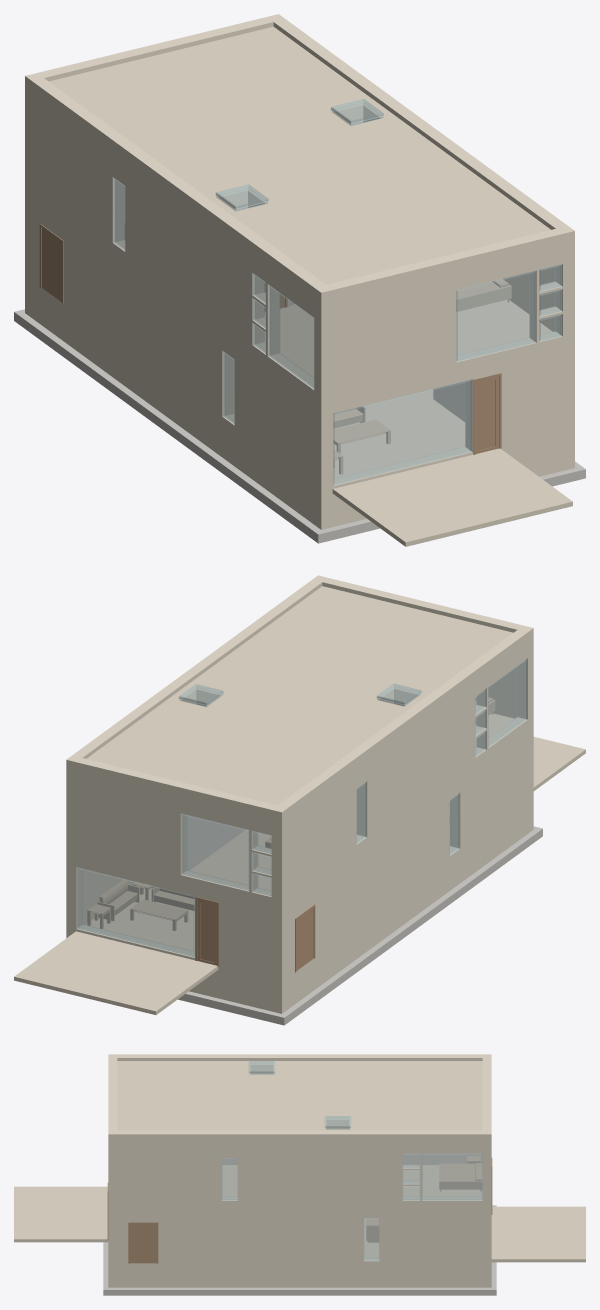
File: duplex.glb
3 views of the same model, one above another, from view 1: azimuth 30°, elevation 25°; view 2: azimuth 150°, elevation 25°; view 3: azimuth 270°, elevation 25° (orthographic). The views are drawn at different scales.
Visible parts, largest first — view 1: IfcSlab__3ThA22djr8AQQ9eQMA5s7I__Basic Roof:Live Roof over W, IfcWallStandardCase__2O2Fr$t4X7Zf8NOew3FNhv__Basic Wall:Exte, IfcWallStandardCase__2O2Fr$t4X7Zf8NOew3FLPP__Basic Wall:Exte, IfcWallStandardCase__2O2Fr$t4X7Zf8NOew3FLOH__Basic Wall:Exte, IfcSlab__1CZILmCaHETO8tf3SgGEXu__Floor:150mm Exterior Slab o, IfcWallStandardCase__2O2Fr$t4X7Zf8NOew3FNr2__Basic Wall:Exte, IfcWallStandardCase__2O2Fr$t4X7Zf8NOew3FKE5__Basic Wall:Foun, IfcWindow__1hOSvn6df7F8_7GcBWlRBU__M_Fixed:4835mm x 2420mm:4, IfcWallStandardCase__0jf0rYHfX3RAB3bSIRjmr1__Basic Wall:Exte, IfcSlab__2OBrcmyk58NupXoVOHUtxr__Floor:Finish Floor - Wood:1, IfcWallStandardCase__0jf0rYHfX3RAB3bSIRjmoa__Basic Wall:Exte, IfcWindow__1hOSvn6df7F8_7GcBWlS_W__M_Fixed:2800mm x 2410mm:2 (+19 smaller); view 2: IfcSlab__3ThA22djr8AQQ9eQMA5s7I__Basic Roof:Live Roof over W, IfcWallStandardCase__2O2Fr$t4X7Zf8NOew3FNhv__Basic Wall:Exte, IfcWallStandardCase__2O2Fr$t4X7Zf8NOew3FLPP__Basic Wall:Exte, IfcWallStandardCase__2O2Fr$t4X7Zf8NOew3FLQD__Basic Wall:Exte, IfcWallStandardCase__2O2Fr$t4X7Zf8NOew3FNtn__Basic Wall:Exte, IfcSlab__1CZILmCaHETO8tf3SgGEWh__Floor:150mm Exterior Slab o, IfcWallStandardCase__2O2Fr$t4X7Zf8NOew3FKE5__Basic Wall:Foun, IfcWindow__1hOSvn6df7F8_7GcBWlR72__M_Fixed:4835mm x 2420mm:4, IfcWallStandardCase__0jf0rYHfX3RAB3bSIRjmr1__Basic Wall:Exte, IfcWallStandardCase__0jf0rYHfX3RAB3bSIRjmmy__Basic Wall:Exte, IfcWindow__1hOSvn6df7F8_7GcBWlSXO__M_Fixed:2800mm x 2410mm:2, IfcFooting__0kF45Qs8L9PAM9kmb1lT5t__Wall Foundation:Bearing  (+20 smaller); view 3: IfcSlab__3ThA22djr8AQQ9eQMA5s7I__Basic Roof:Live Roof over W, IfcWallStandardCase__2O2Fr$t4X7Zf8NOew3FNqI__Basic Wall:Exte, IfcWallStandardCase__2O2Fr$t4X7Zf8NOew3FLR9__Basic Wall:Exte, IfcWallStandardCase__2O2Fr$t4X7Zf8NOew3FK9N__Basic Wall:Foun, IfcWallStandardCase__0jf0rYHfX3RAB3bSIRjmpw__Basic Wall:Exte, IfcSlab__1CZILmCaHETO8tf3SgGEWh__Floor:150mm Exterior Slab o, IfcSlab__1CZILmCaHETO8tf3SgGEXu__Floor:150mm Exterior Slab o, IfcFooting__0kF45Qs8L9PAM9kmb1lT5d__Wall Foundation:Bearing , IfcWindow__1l0GAJtRTFv8$zmKJOH4pU__M_Fixed:2800mm x 2410mm:2, IfcWallStandardCase__0jf0rYHfX3RAB3bSIRjmr1__Basic Wall:Exte, IfcDoor__1hOSvn6df7F8_7GcBWlRGQ__M_Single-Flush:1250mm x 201, IfcSlab__2OBrcmyk58NupXoVOHUtDX__Floor:Finish Floor - Wood:1 (+11 smaller).
Boxes of the visible parts, x1,y1,x2,y2 form: IfcSlab__3ThA22djr8AQQ9eQMA5s7I__Basic Roof:Live Roof over W: (49, 26, 550, 284); IfcWallStandardCase__2O2Fr$t4X7Zf8NOew3FNhv__Basic Wall:Exte: (32, 187, 314, 486); IfcWallStandardCase__2O2Fr$t4X7Zf8NOew3FLPP__Basic Wall:Exte: (25, 94, 321, 398); IfcWallStandardCase__2O2Fr$t4X7Zf8NOew3FLOH__Basic Wall:Exte: (321, 249, 574, 398); IfcSlab__1CZILmCaHETO8tf3SgGEXu__Floor:150mm Exterior Slab o: (332, 448, 572, 546); IfcWallStandardCase__2O2Fr$t4X7Zf8NOew3FNr2__Basic Wall:Exte: (314, 340, 562, 491); IfcWallStandardCase__2O2Fr$t4X7Zf8NOew3FKE5__Basic Wall:Foun: (32, 281, 314, 524); IfcWindow__1hOSvn6df7F8_7GcBWlRBU__M_Fixed:4835mm x 2420mm:4: (333, 379, 472, 485); IfcWallStandardCase__0jf0rYHfX3RAB3bSIRjmr1__Basic Wall:Exte: (32, 78, 325, 305); IfcSlab__2OBrcmyk58NupXoVOHUtxr__Floor:Finish Floor - Wood:1: (333, 389, 465, 478); IfcWallStandardCase__0jf0rYHfX3RAB3bSIRjmoa__Basic Wall:Exte: (314, 229, 562, 310); IfcWindow__1hOSvn6df7F8_7GcBWlS_W__M_Fixed:2800mm x 2410mm:2: (456, 270, 536, 362); IfcSlab__3ThA22djr8AQQ9eQMA5s7I__Basic Roof:Live Roof over W: (86, 586, 513, 805); IfcWallStandardCase__2O2Fr$t4X7Zf8NOew3FNhv__Basic Wall:Exte: (287, 722, 527, 977); IfcWallStandardCase__2O2Fr$t4X7Zf8NOew3FLPP__Basic Wall:Exte: (282, 644, 533, 901); IfcWallStandardCase__2O2Fr$t4X7Zf8NOew3FLQD__Basic Wall:Exte: (66, 775, 281, 902); IfcWallStandardCase__2O2Fr$t4X7Zf8NOew3FNtn__Basic Wall:Exte: (66, 850, 287, 981); IfcSlab__1CZILmCaHETO8tf3SgGEWh__Floor:150mm Exterior Slab o: (14, 931, 218, 1014); IfcWallStandardCase__2O2Fr$t4X7Zf8NOew3FKE5__Basic Wall:Foun: (287, 802, 527, 1009); IfcWindow__1hOSvn6df7F8_7GcBWlR72__M_Fixed:4835mm x 2420mm:4: (76, 867, 194, 957); IfcWallStandardCase__0jf0rYHfX3RAB3bSIRjmr1__Basic Wall:Exte: (278, 630, 527, 823); IfcWallStandardCase__0jf0rYHfX3RAB3bSIRjmmy__Basic Wall:Exte: (66, 755, 287, 827); IfcWindow__1hOSvn6df7F8_7GcBWlSXO__M_Fixed:2800mm x 2410mm:2: (181, 813, 249, 891); IfcFooting__0kF45Qs8L9PAM9kmb1lT5t__Wall Foundation:Bearing : (262, 836, 530, 1025); IfcSlab__3ThA22djr8AQQ9eQMA5s7I__Basic Roof:Live Roof over W: (117, 1061, 482, 1130); IfcWallStandardCase__2O2Fr$t4X7Zf8NOew3FNqI__Basic Wall:Exte: (108, 1202, 482, 1263); IfcWallStandardCase__2O2Fr$t4X7Zf8NOew3FLR9__Basic Wall:Exte: (108, 1146, 491, 1202); IfcWallStandardCase__2O2Fr$t4X7Zf8NOew3FK9N__Basic Wall:Foun: (108, 1263, 482, 1287); IfcWallStandardCase__0jf0rYHfX3RAB3bSIRjmpw__Basic Wall:Exte: (108, 1130, 482, 1146); IfcSlab__1CZILmCaHETO8tf3SgGEWh__Floor:150mm Exterior Slab o: (491, 1206, 585, 1262); IfcSlab__1CZILmCaHETO8tf3SgGEXu__Floor:150mm Exterior Slab o: (14, 1186, 108, 1242); IfcFooting__0kF45Qs8L9PAM9kmb1lT5d__Wall Foundation:Bearing : (103, 1281, 496, 1295); IfcWindow__1l0GAJtRTFv8$zmKJOH4pU__M_Fixed:2800mm x 2410mm:2: (422, 1153, 482, 1200); IfcWallStandardCase__0jf0rYHfX3RAB3bSIRjmr1__Basic Wall:Exte: (117, 1054, 482, 1060); IfcDoor__1hOSvn6df7F8_7GcBWlRGQ__M_Single-Flush:1250mm x 201: (128, 1222, 158, 1263); IfcSlab__2OBrcmyk58NupXoVOHUtDX__Floor:Finish Floor - Wood:1: (403, 1165, 482, 1196).
Size of the model in its own units: 9.28 by 8.18 by 26.57.
